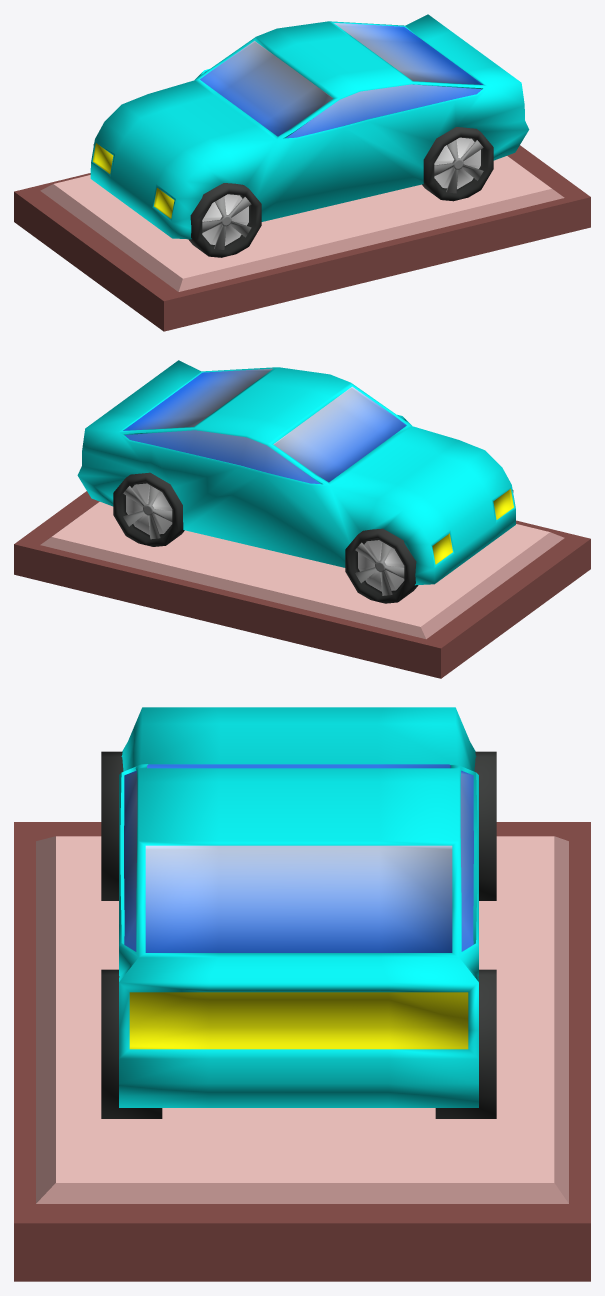
Rendered from Car_Decor_Blue.fbx.
The picture shows the model from 3 angles, top to bottom: view 1: azimuth 30°, elevation 25°; view 2: azimuth 150°, elevation 25°; view 3: azimuth 270°, elevation 25°; orthographic projection. The views are drawn at different scales.
Parts seen in each view (by area): view 1: Car_Decor_Blue; view 2: Car_Decor_Blue; view 3: Car_Decor_Blue.
Part boxes in pixels (left/top/right/bottom): Car_Decor_Blue: left=14, top=14, right=590, bottom=331; Car_Decor_Blue: left=14, top=360, right=590, bottom=678; Car_Decor_Blue: left=14, top=707, right=590, bottom=1281.
Size of the model in its own units: 0.5068 by 0.1845 by 0.308.
